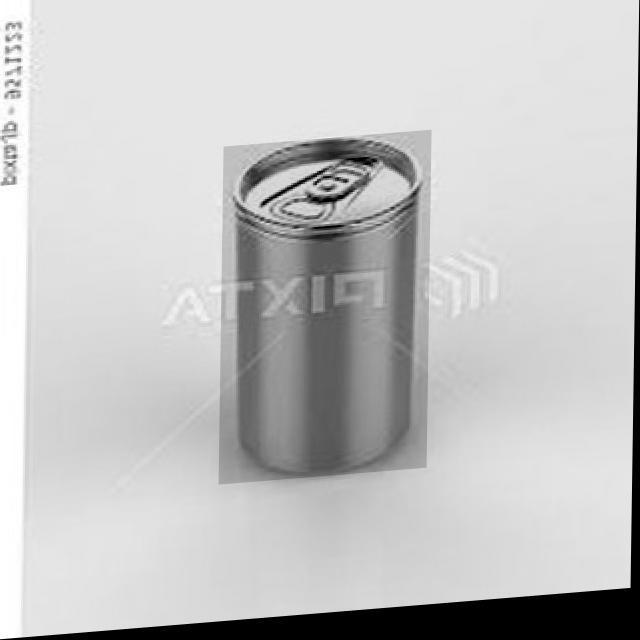trash: (229, 130, 417, 532)
